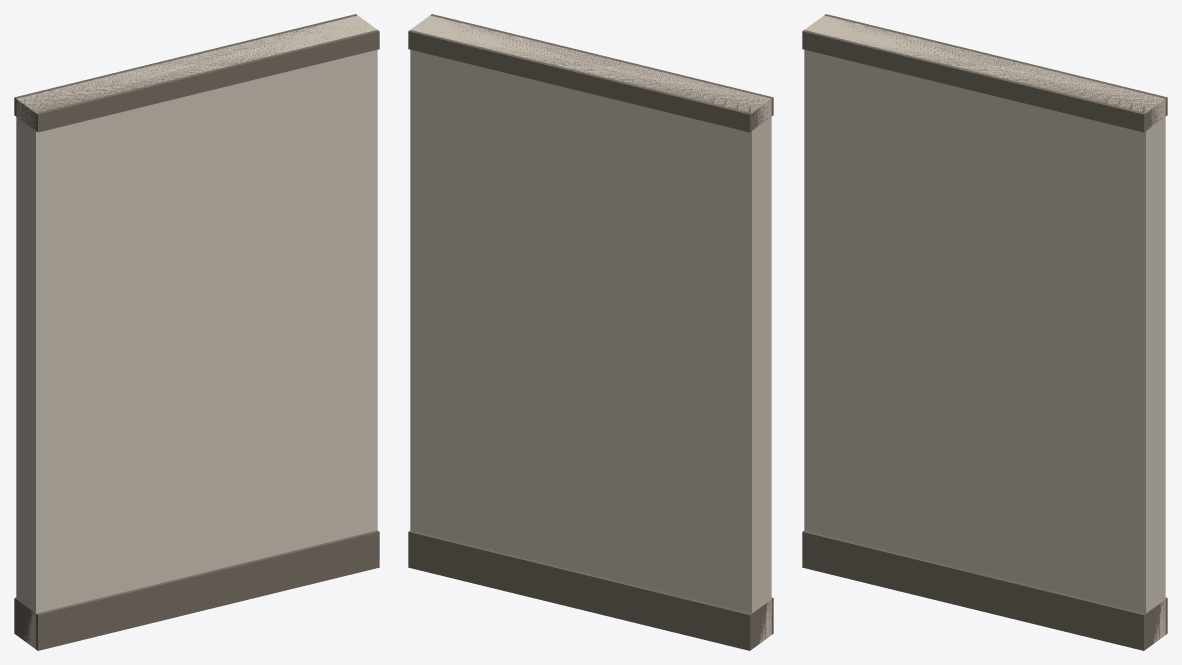
Rendered from wall_plaster_2m.glb.
3 renders of one model, left to right at view 1: azimuth 30°, elevation 25°; view 2: azimuth 150°, elevation 25°; view 3: azimuth 330°, elevation 25°, orthographic.
Visible parts, largest first — view 1: wall_plaster_2m; view 2: wall_plaster_2m; view 3: wall_plaster_2m.
Boxes of the visible parts, box(x1,y1,x2,y2) form: wall_plaster_2m: box(14, 14, 379, 650); wall_plaster_2m: box(408, 14, 773, 650); wall_plaster_2m: box(802, 14, 1167, 650).
Size of the model in its own units: 2 by 3 by 0.24.
